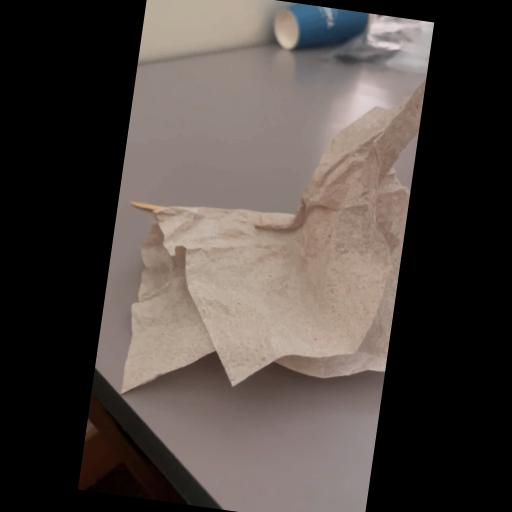lp_paper_cup: (262, 0, 380, 62)
napkin: (90, 31, 428, 437)
